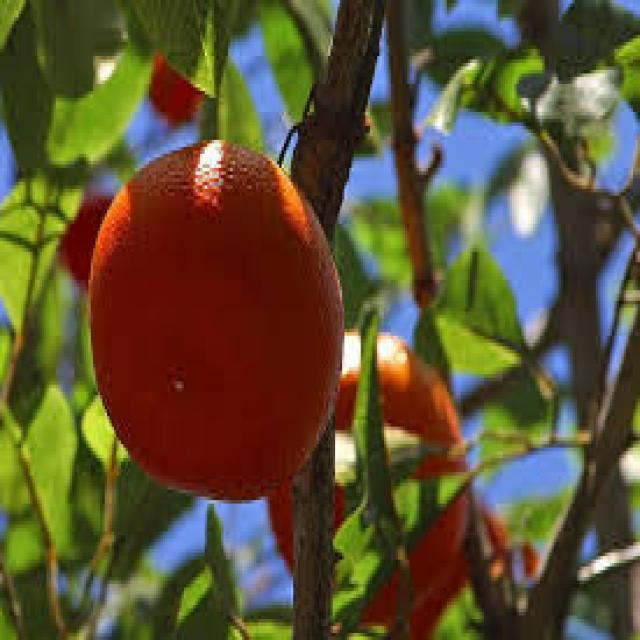Orange: (85, 137, 346, 501)
